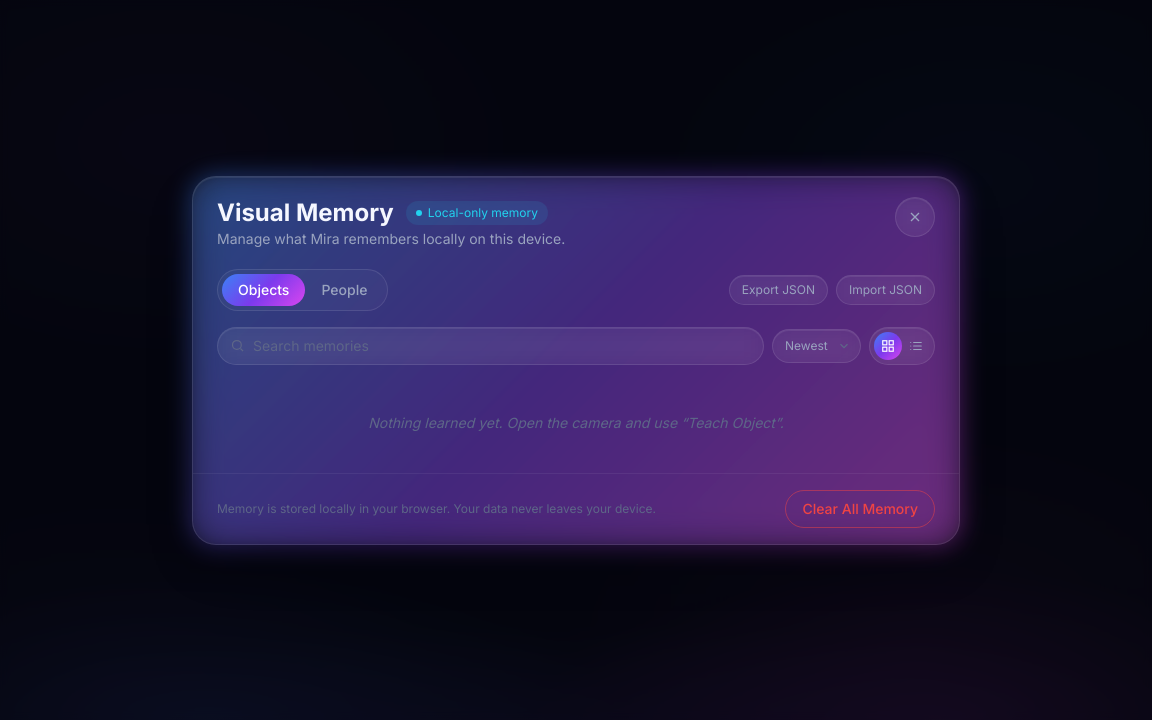
it: VisionMemoryPanel › switches to the People tab
Click the button "people": (344, 290) [305,274,383,306]
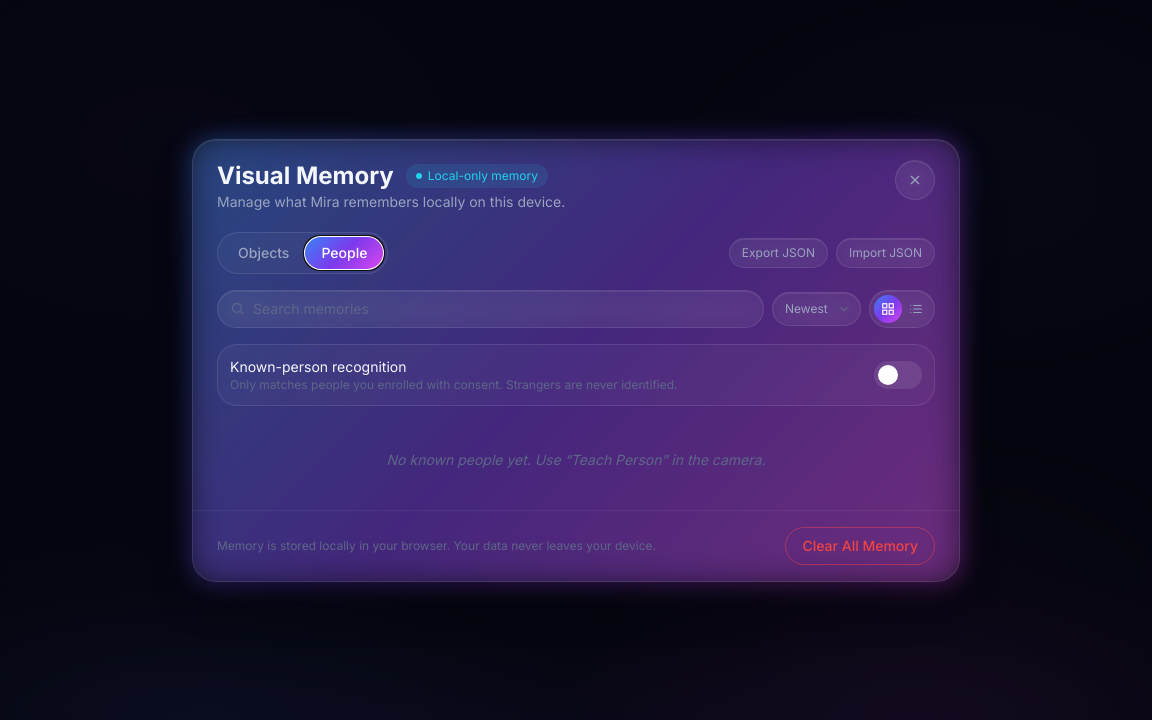
Check: the text "No known people yet. Use “Teach Person” in the camera." is shown, box [387,450,766,468]
